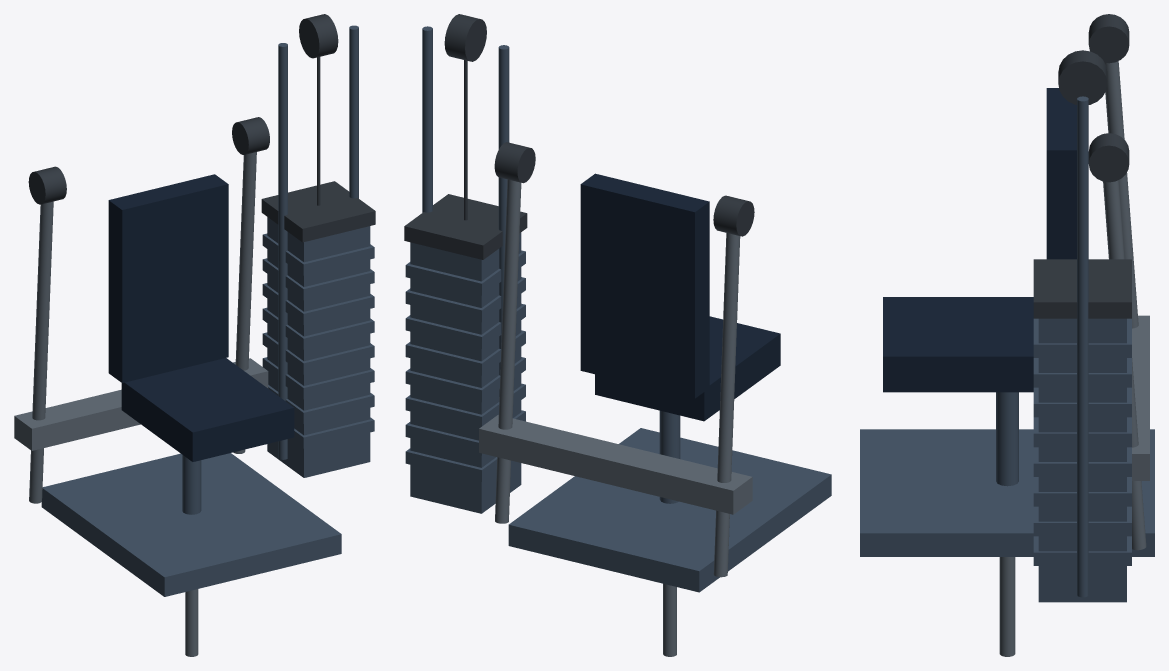
File: seated_dip.glb
The picture shows the model from 3 angles, left to right: view 1: azimuth 30°, elevation 25°; view 2: azimuth 150°, elevation 25°; view 3: azimuth 270°, elevation 25°; orthographic projection. The views are drawn at different scales.
Parts seen in each view (by area): view 1: base, back, stack, seat, weightPlate (×8), guide (×2), pivotBridge, stackLift, Lsupport, Rsupport, loadPulley, Lpivot (+4 smaller); view 2: back, base, stack, weightPlate (×8), pivotBridge, seat, Rsupport, Lsupport, stackLift, guide (×2), loadPulley, Lpivot (+4 smaller); view 3: base, seat, stack, weightPlate (×8), guide, stackLift, back, pivotBridge, Rsupport, Lsupport, loadPulley, post (+3 smaller).
Part boxes in pixels (x1,y1,x2,y2): base: (41, 453, 341, 596); back: (108, 174, 228, 382); stack: (267, 217, 370, 477); seat: (121, 358, 294, 461); weightPlate (×8): (262, 233, 374, 448); guide (×2): (278, 25, 358, 459); pivotBridge: (14, 358, 268, 450); stackLift: (261, 181, 375, 242); Lsupport: (29, 201, 53, 503); Rsupport: (233, 152, 256, 453); loadPulley: (299, 14, 338, 58); Lpivot: (28, 166, 66, 204); back: (580, 173, 709, 398); base: (508, 428, 831, 592); stack: (410, 232, 521, 513); weightPlate (×8): (405, 250, 525, 481); pivotBridge: (479, 415, 752, 514); seat: (595, 316, 780, 421); Rsupport: (495, 179, 521, 523); Lsupport: (713, 233, 740, 577); stackLift: (404, 194, 527, 259); guide (×2): (422, 26, 509, 396); loadPulley: (444, 14, 486, 61); Lpivot: (713, 195, 754, 236); base: (860, 429, 1154, 556); seat: (883, 297, 1033, 392); stack: (1038, 318, 1126, 602); weightPlate (×8): (1033, 318, 1131, 565); guide: (1077, 96, 1088, 597); stackLift: (1033, 259, 1131, 318); back: (1046, 88, 1076, 259); pivotBridge: (1132, 315, 1149, 480); Rsupport: (1103, 180, 1146, 550); Lsupport: (1105, 61, 1138, 328); loadPulley: (1058, 50, 1107, 104); post: (996, 392, 1018, 486).
Bounding box in the file's own units: 1.34 × 2.33 × 0.9.
